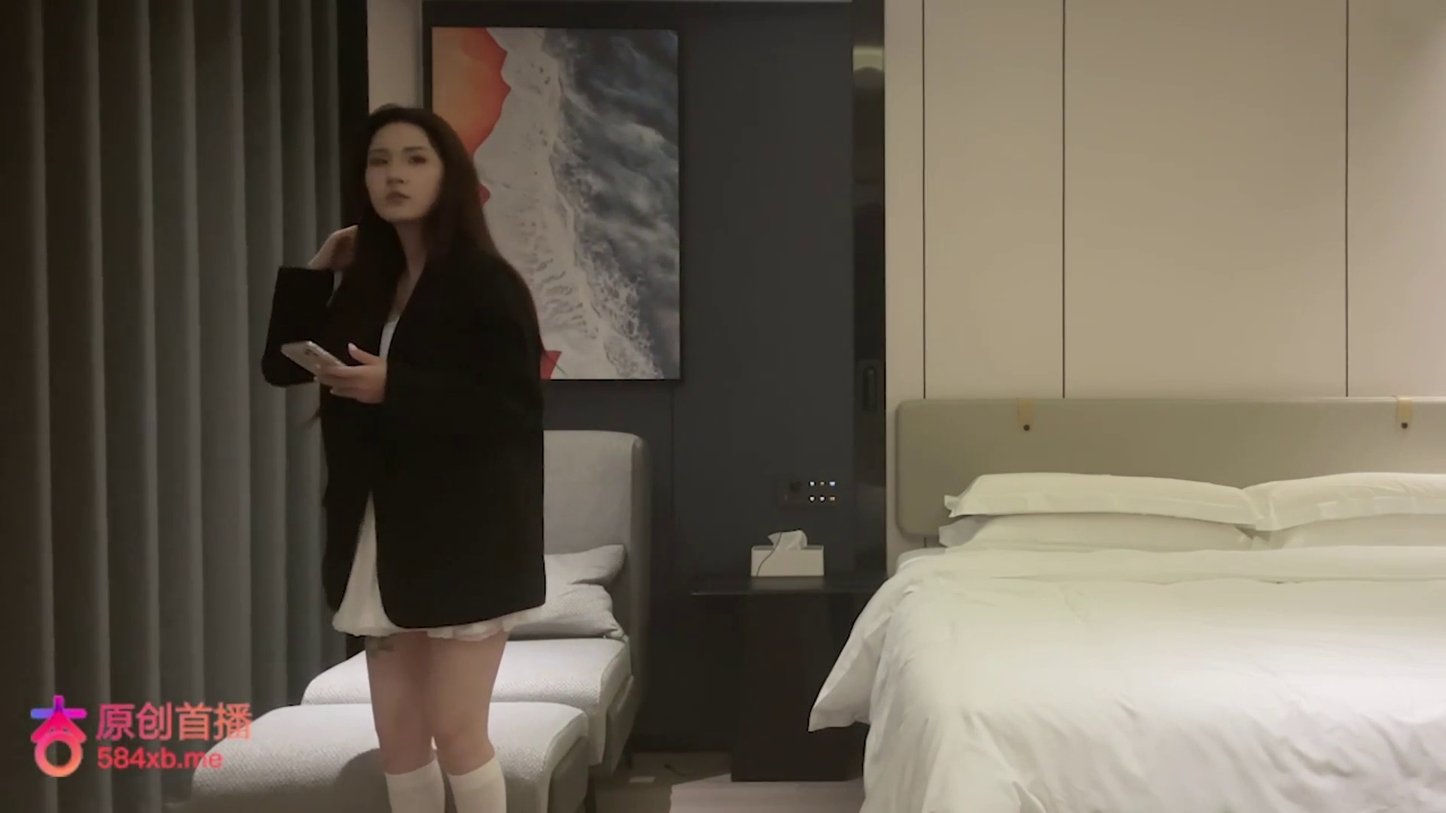stand: (261, 102, 548, 807)
